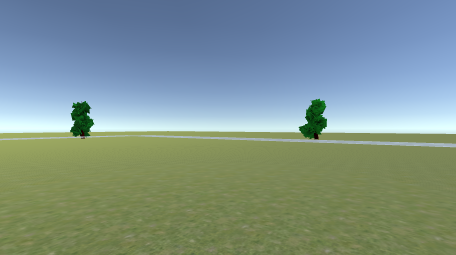tree: (299, 98, 328, 141), (69, 100, 95, 140)
